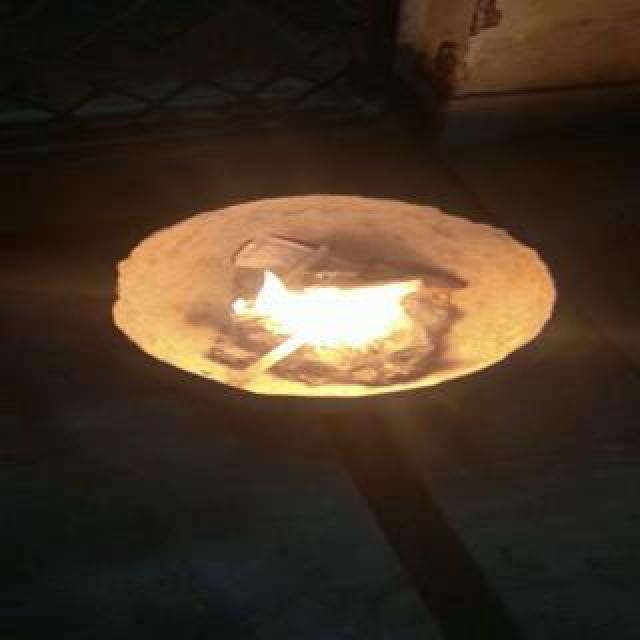zfire: (158, 254, 424, 346)
